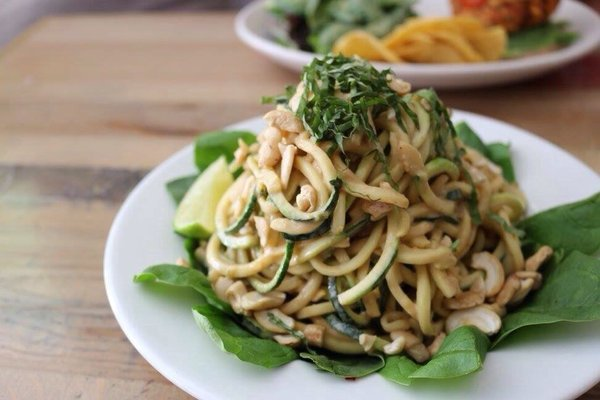sushi: (315, 1, 599, 90), (235, 0, 420, 74)
